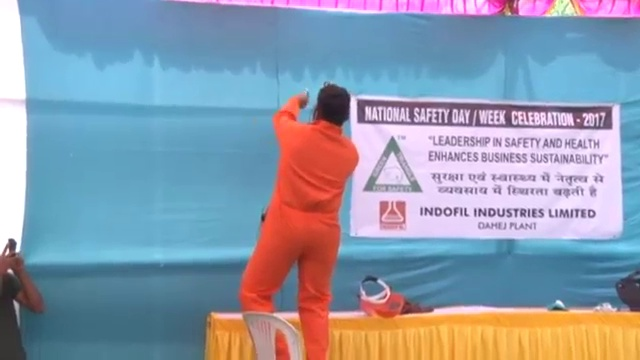helmet_off: (315, 82, 353, 130)
person: (239, 82, 359, 360), (1, 238, 42, 360)
